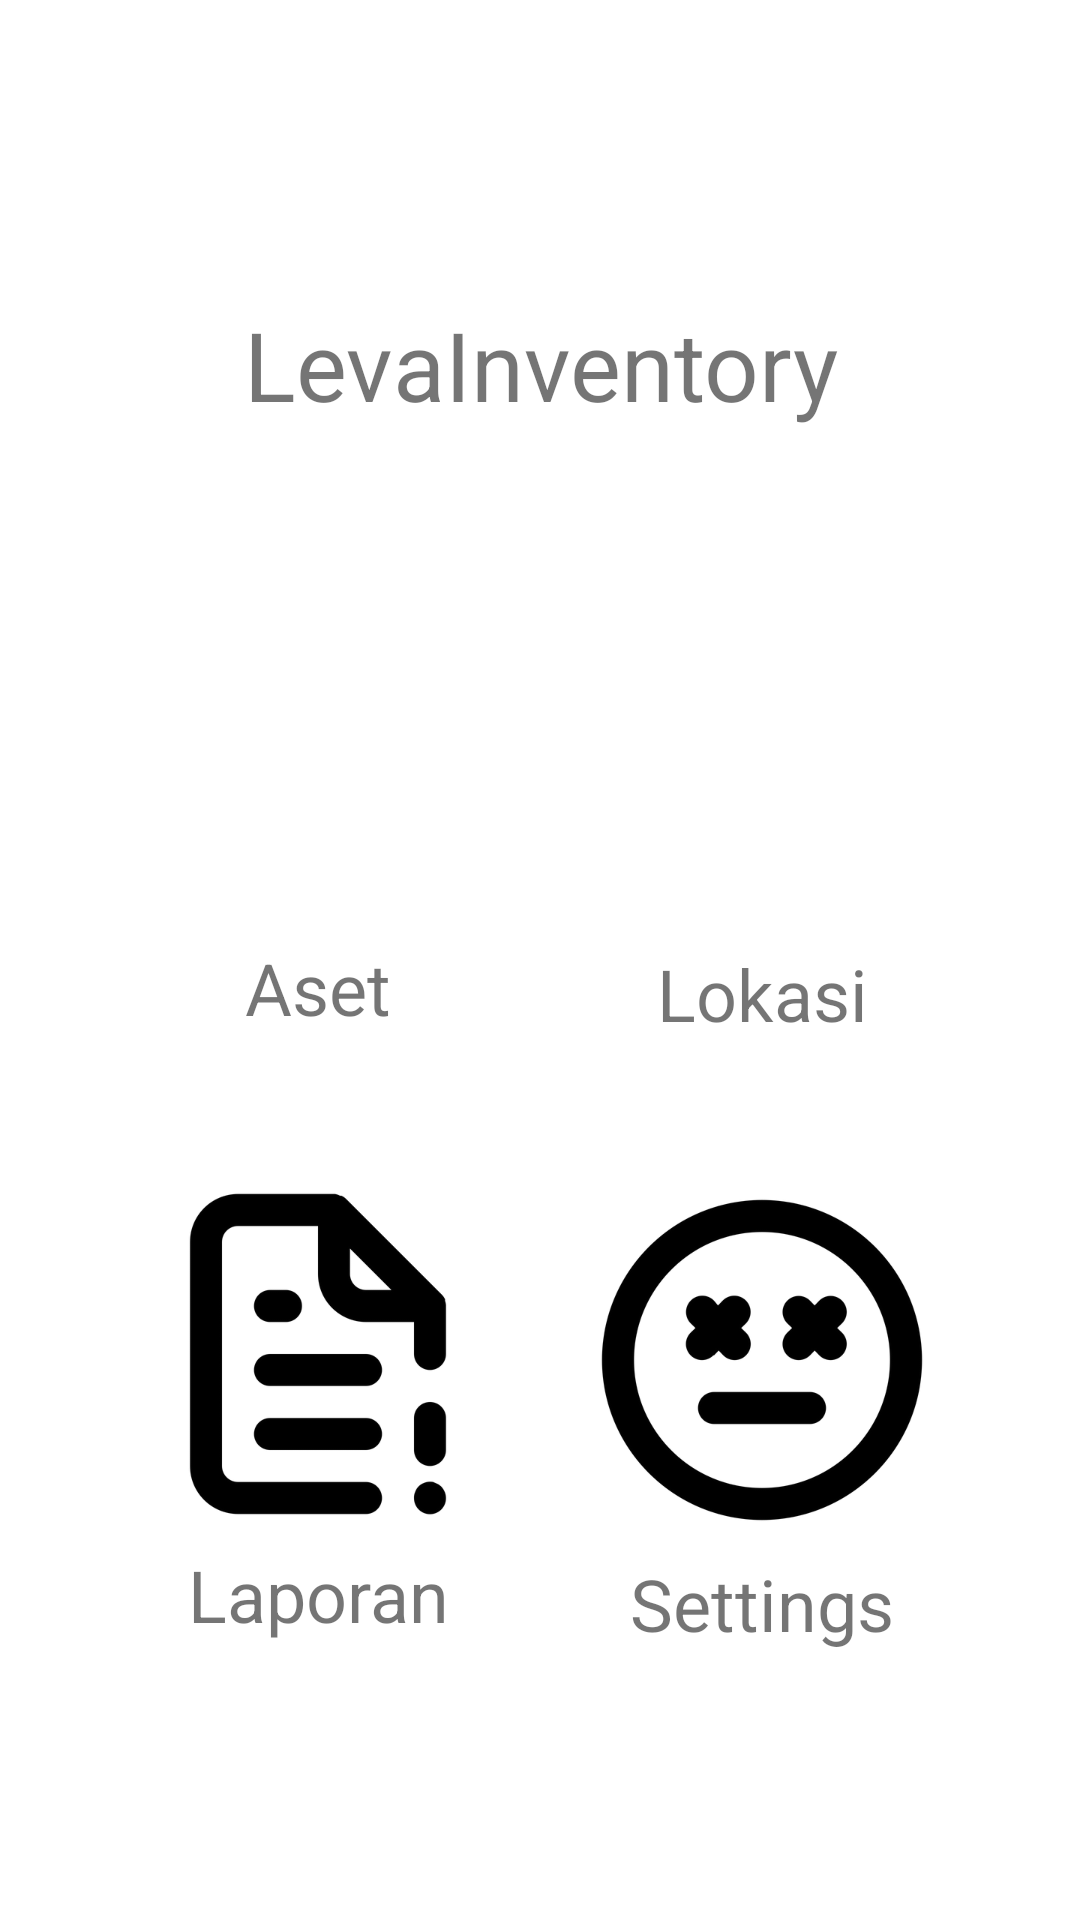

Icons on this 1080 x 1920 Android screen, each with its box as (x1, y1, x2, y2):
document: (189, 1193, 447, 1515)
